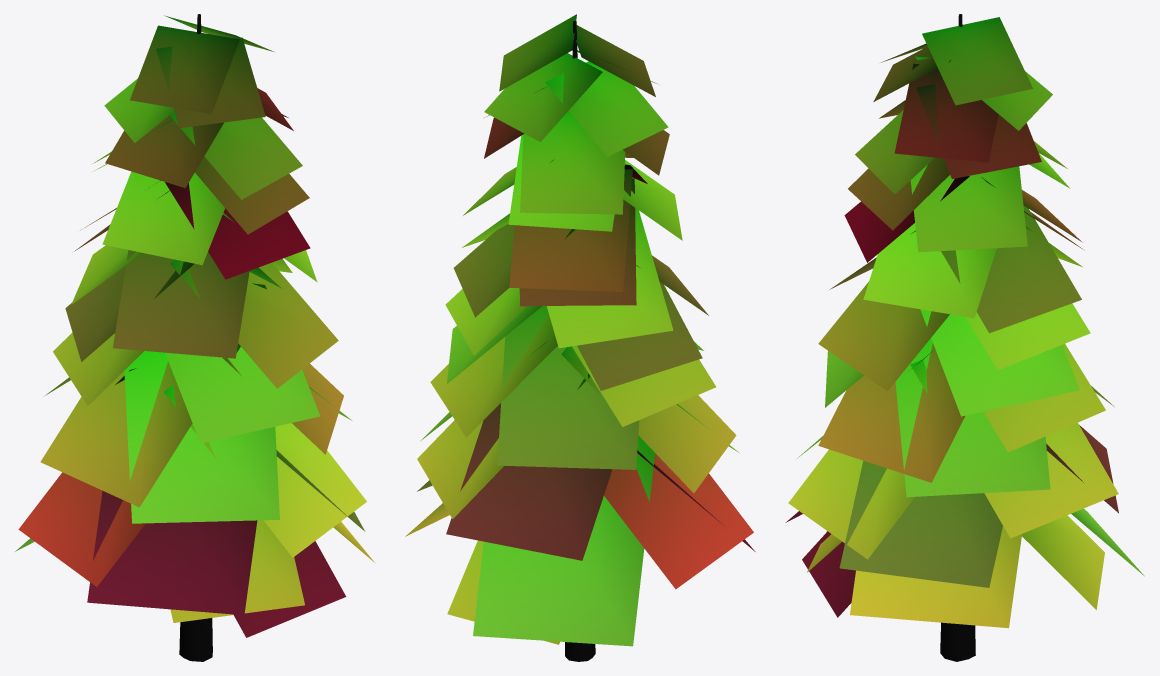
Rendered from Tree_2.fbx.
3 renders of one model, left to right at view 1: azimuth 30°, elevation 25°; view 2: azimuth 150°, elevation 25°; view 3: azimuth 270°, elevation 25°, orthographic.
Parts seen in each view (by area): view 1: Tree_2; view 2: Tree_2; view 3: Tree_2.
Boxes of the visible parts, box(x1,y1,x2,y2) form: Tree_2: box(15, 14, 375, 661); Tree_2: box(405, 14, 755, 661); Tree_2: box(785, 14, 1144, 661).
Bounding box in the file's own units: 727 × 1502 × 765.
